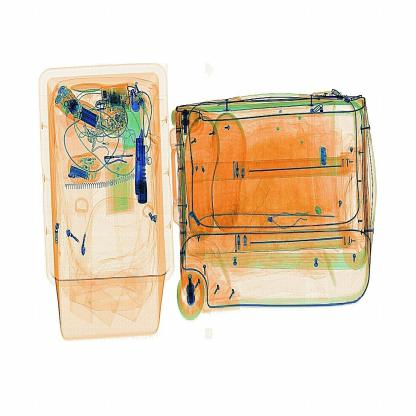pliers: (135, 131, 150, 207)
